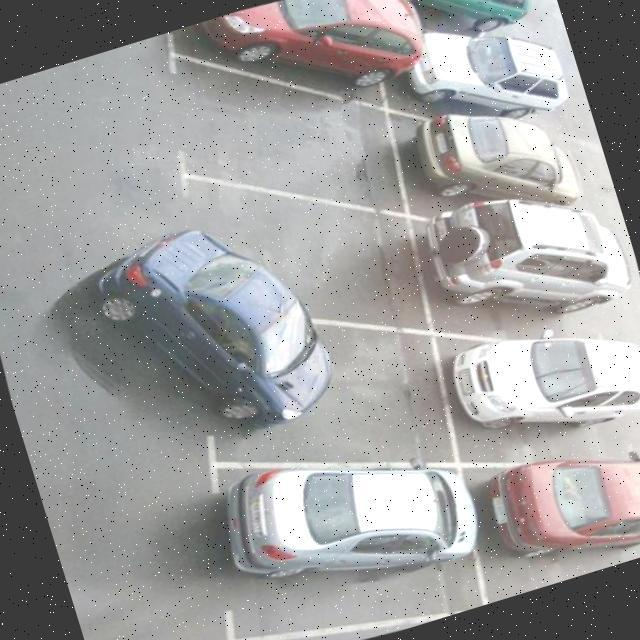space-empty: (130, 8, 423, 257)
space-occupied: (170, 414, 514, 640), (154, 282, 467, 530), (170, 134, 434, 354), (402, 176, 626, 380), (430, 291, 640, 492), (153, 0, 412, 153), (439, 419, 640, 606), (382, 80, 579, 254), (367, 0, 554, 148), (362, 0, 551, 70)
